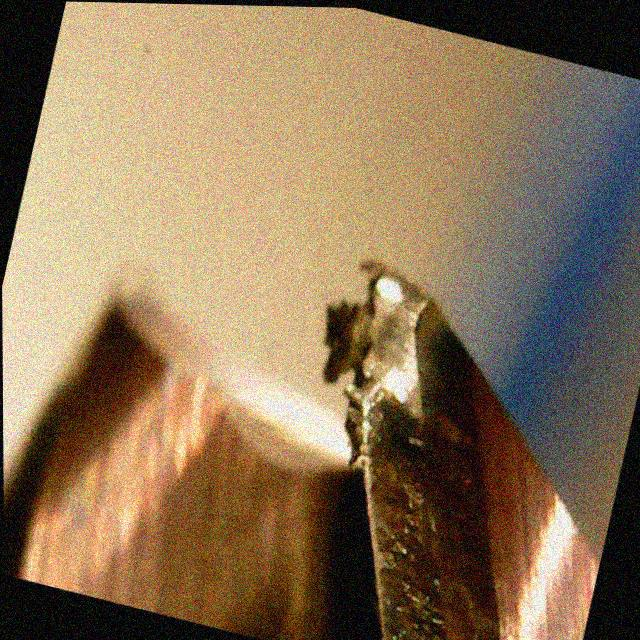Tool-wear-class-2: (262, 233, 510, 640)
